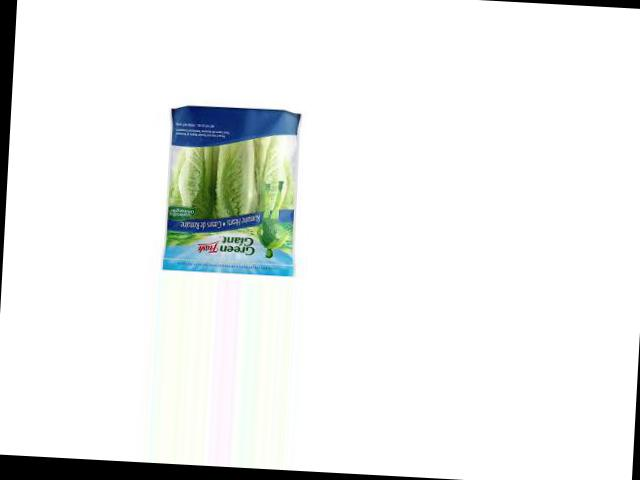lettuce: (160, 102, 308, 271)
